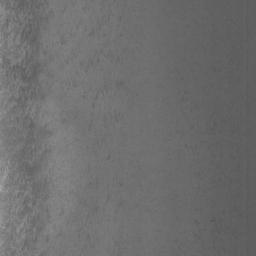Silk spot: (0, 0, 123, 256), (57, 0, 129, 45), (59, 190, 110, 252), (62, 110, 123, 154), (82, 79, 124, 108), (210, 210, 237, 253), (80, 164, 99, 189), (112, 231, 128, 256)
